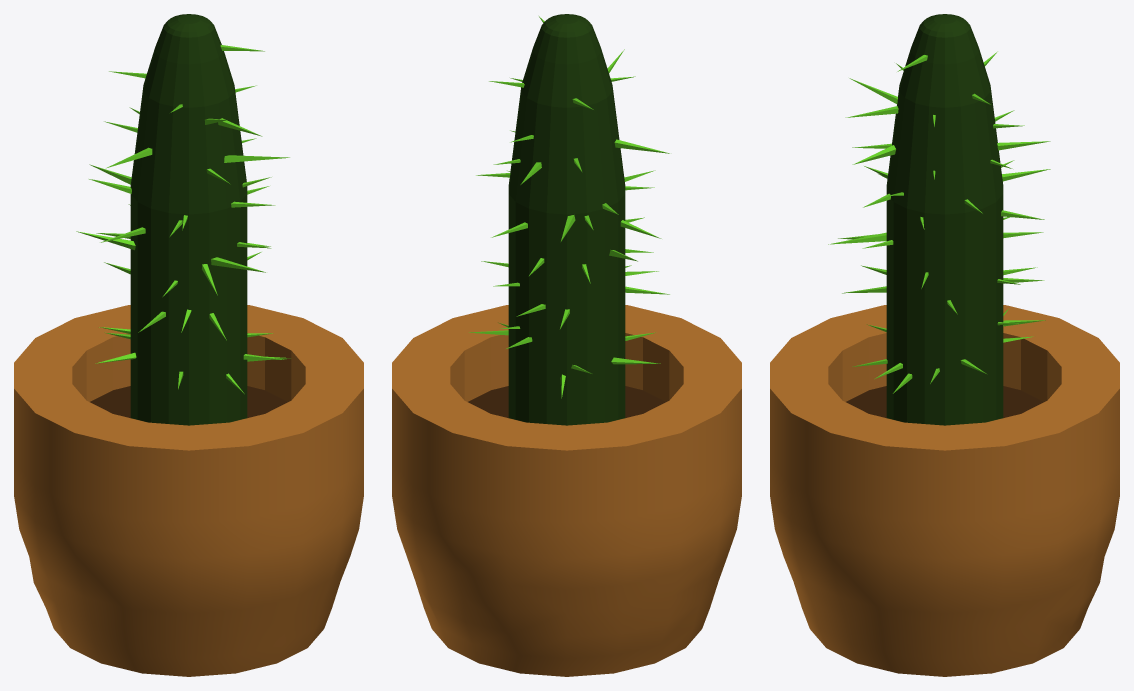
The model's file is kaktus.fbx.
3 views of the same model, side by side, from view 1: azimuth 30°, elevation 25°; view 2: azimuth 150°, elevation 25°; view 3: azimuth 270°, elevation 25° (orthographic).
Parts seen in each view (by area): view 1: Cylinder010; view 2: Cylinder010; view 3: Cylinder010.
Boxes of the visible parts, x1,y1,x2,y2 form: Cylinder010: (14,14,363,676); Cylinder010: (392,14,741,676); Cylinder010: (770,14,1119,676).
Bounding box in the file's own units: 4.35 × 8.13 × 4.29.
